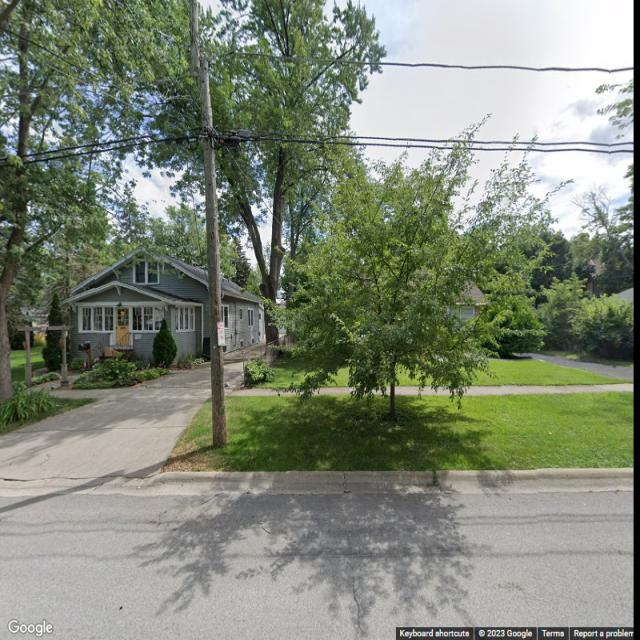House: (59, 246, 262, 366), (423, 276, 487, 332)
